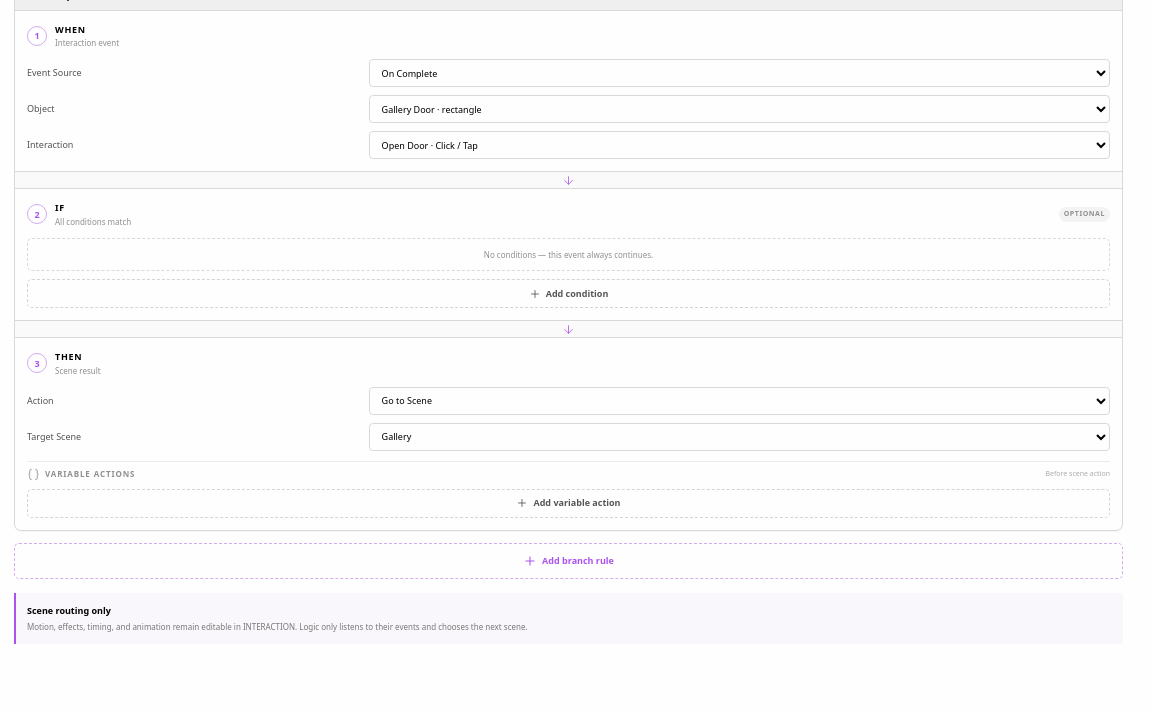
Test: LogicPanel › adds and removes complete branch rules
The width and height of the screenshot is (1152, 711).
(page scrolled)
Step 1. Click the button "Add branch rule" → (568, 561), box [14,543,1123,579]
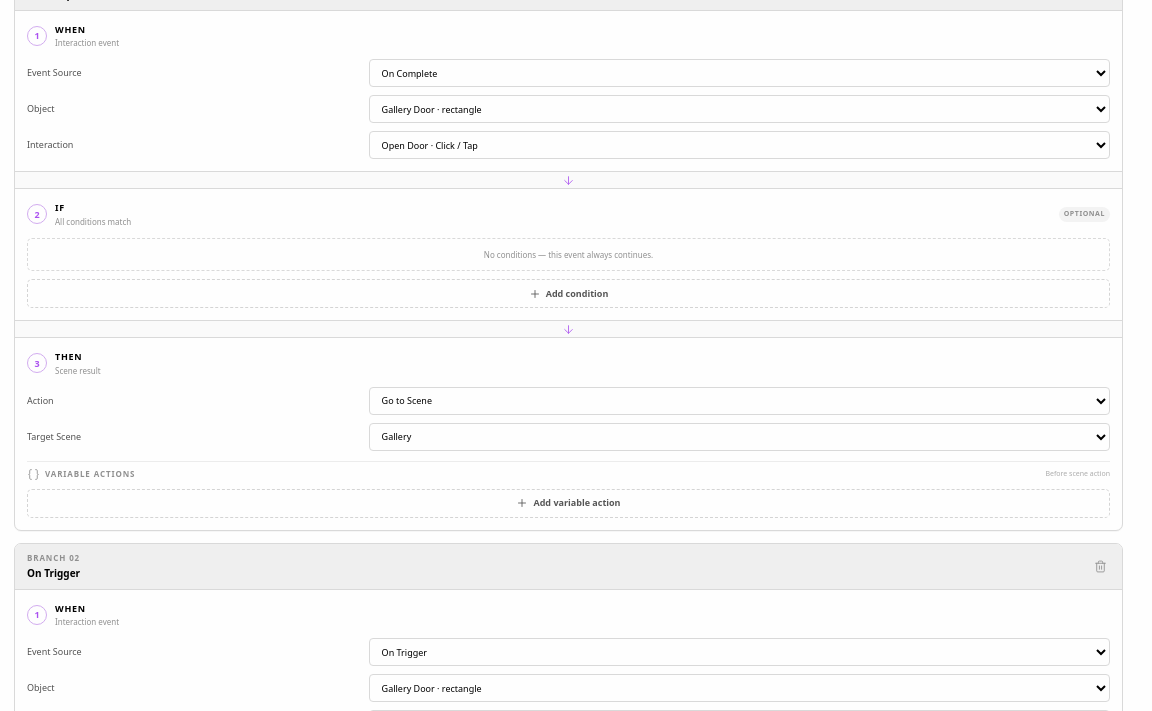
Expected: the button named "Remove branch 2" is enabled
Step 2. Click the button named "Remove branch 2" → (1100, 566), box [1088,554,1112,578]
(page scrolled)
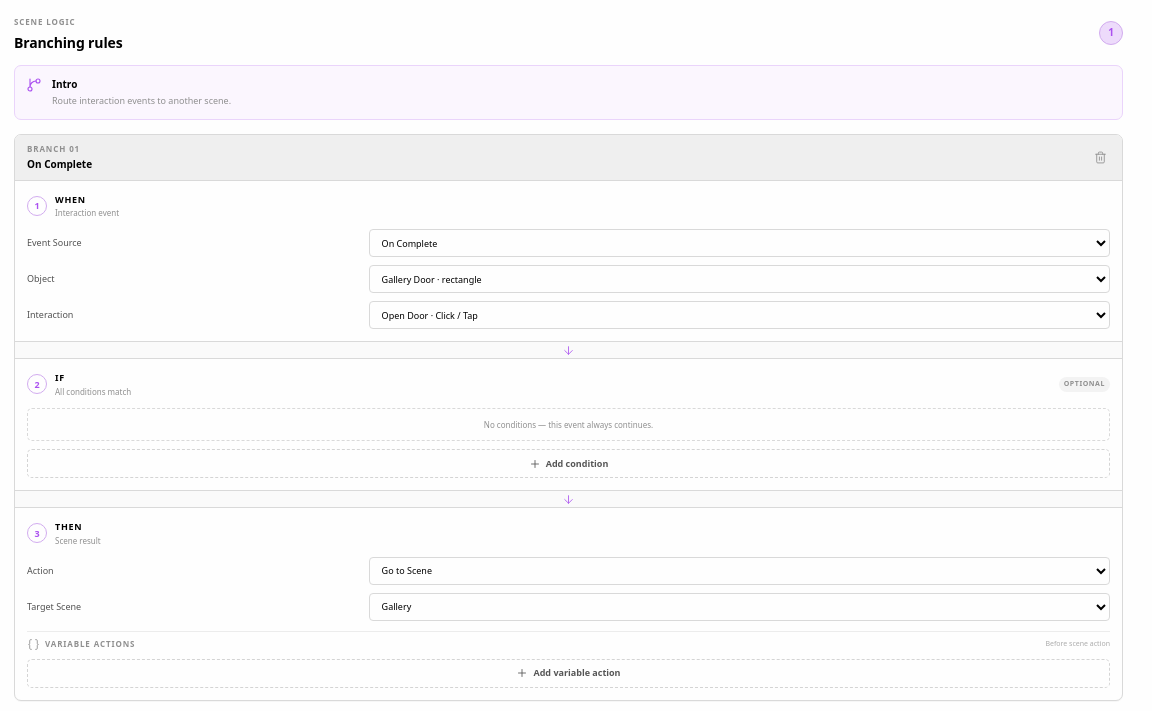
Expected: the text "BRANCH 02" is gone
Step 3. Click the button named "Remove branch 1" → (1100, 157), box [1088,145,1112,169]
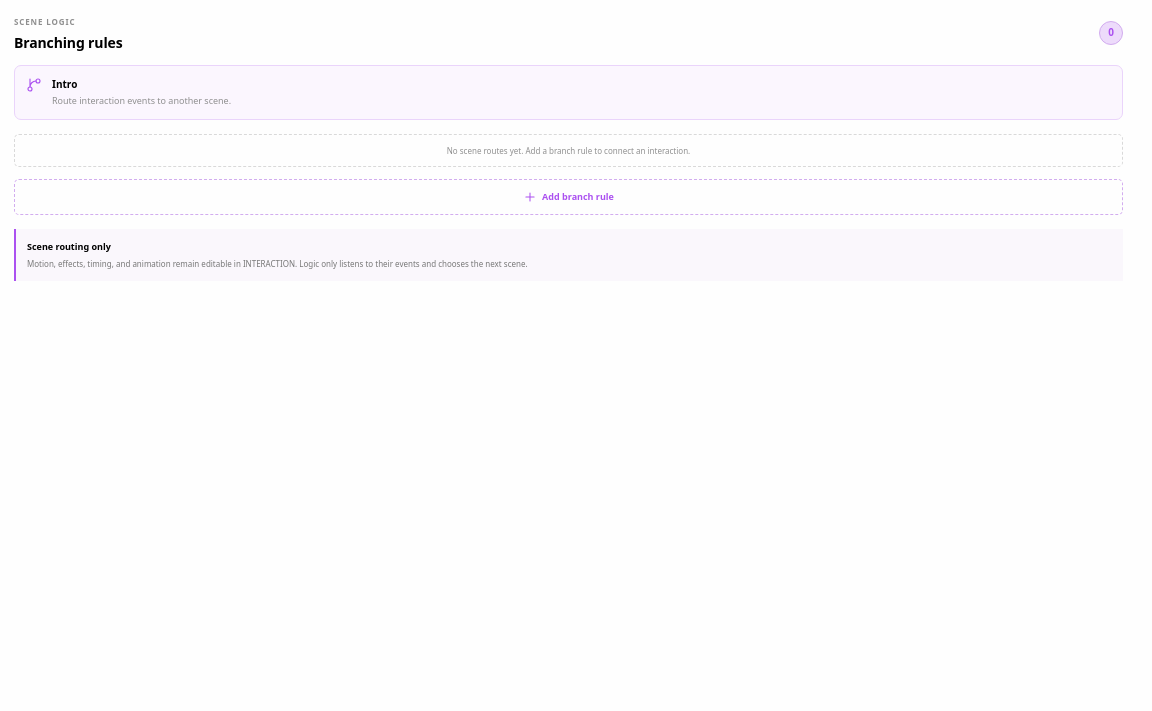
Expected: the text "No scene routes yet" is shown, [447,145,690,156]
